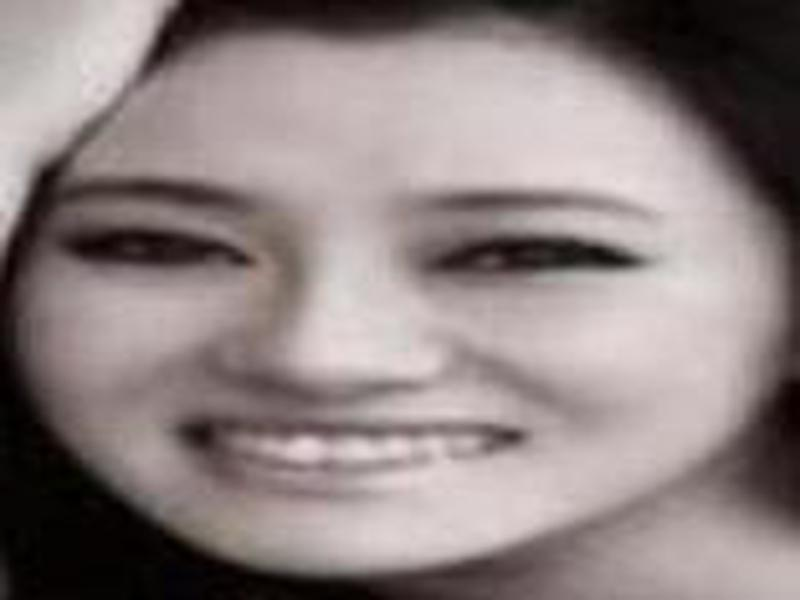without_mask: (16, 40, 780, 584)
